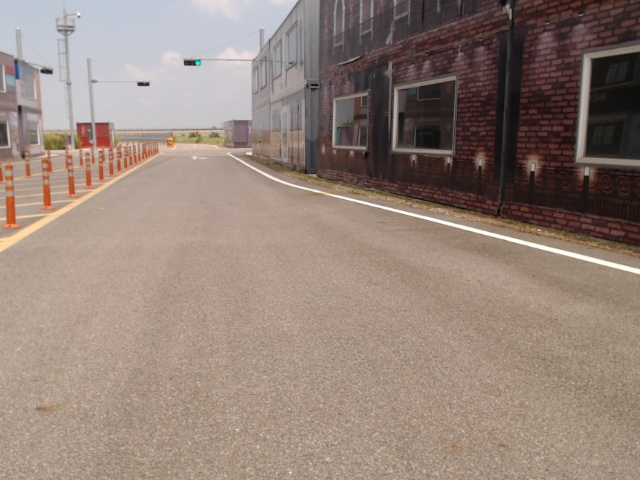green_3: (183, 59, 202, 67)
